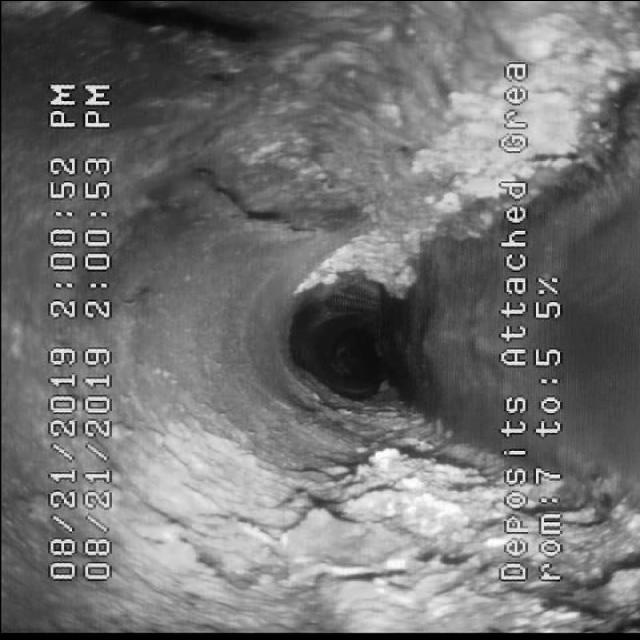Fracture: (124, 4, 350, 222)
